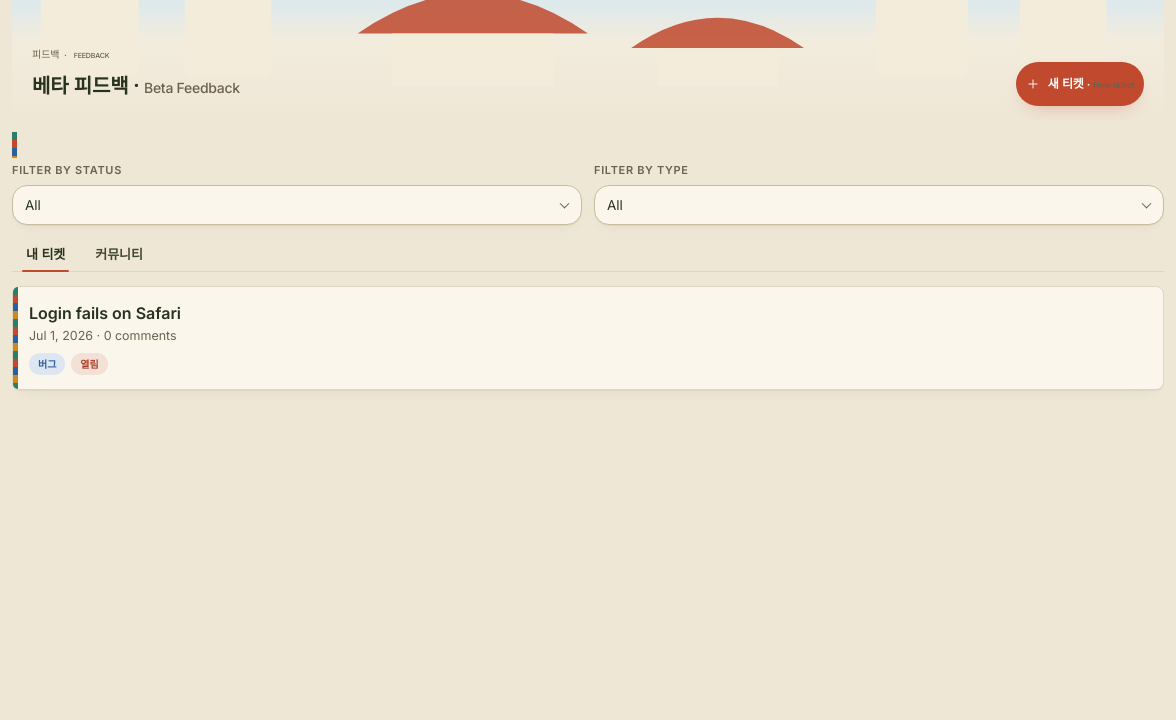
Scenario: Tickets — ticket detail + editing › edits title/body/status and saves via PATCH with the expected_version
This screenshot has width=1176, height=720.
Expected: the text "Login fails on Safari" is shown, [29,303,181,323]
Click the button "Login fails on Safari Jul 1, 2026 · 0 comments 버그 열림": (105, 313) [13,287,1163,390]
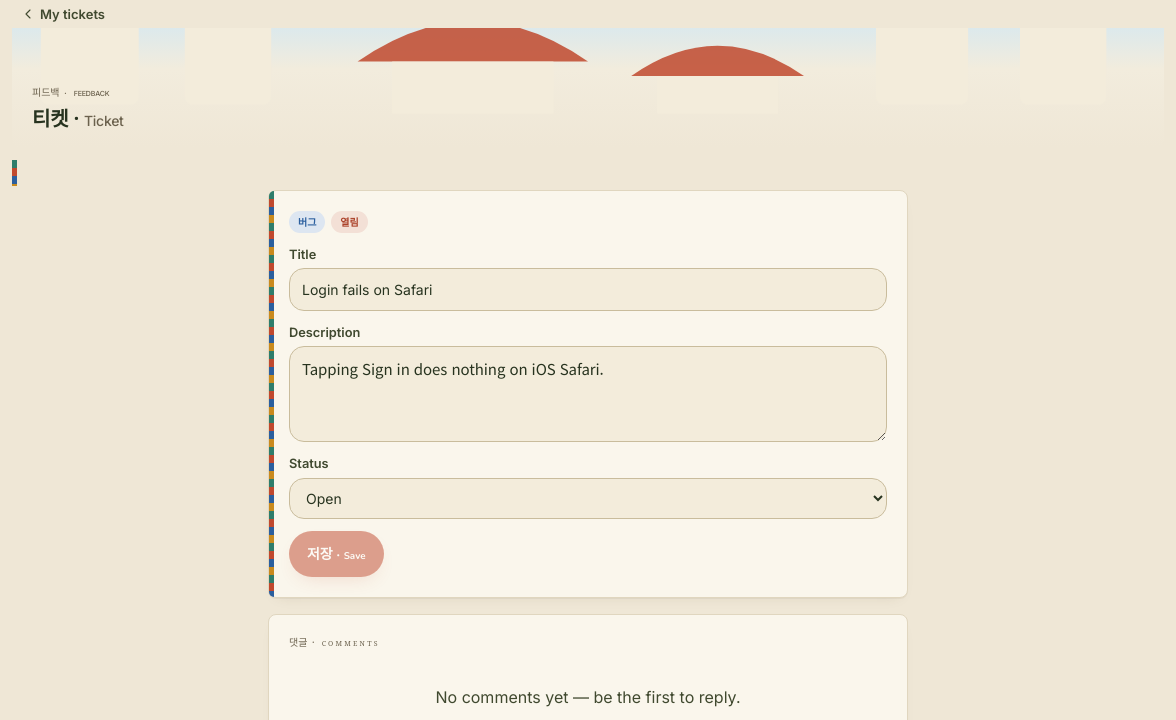
Replace the text in the field labelled "Title" with "Login fails on Safari 17": (588, 290) [289,268,887,311]
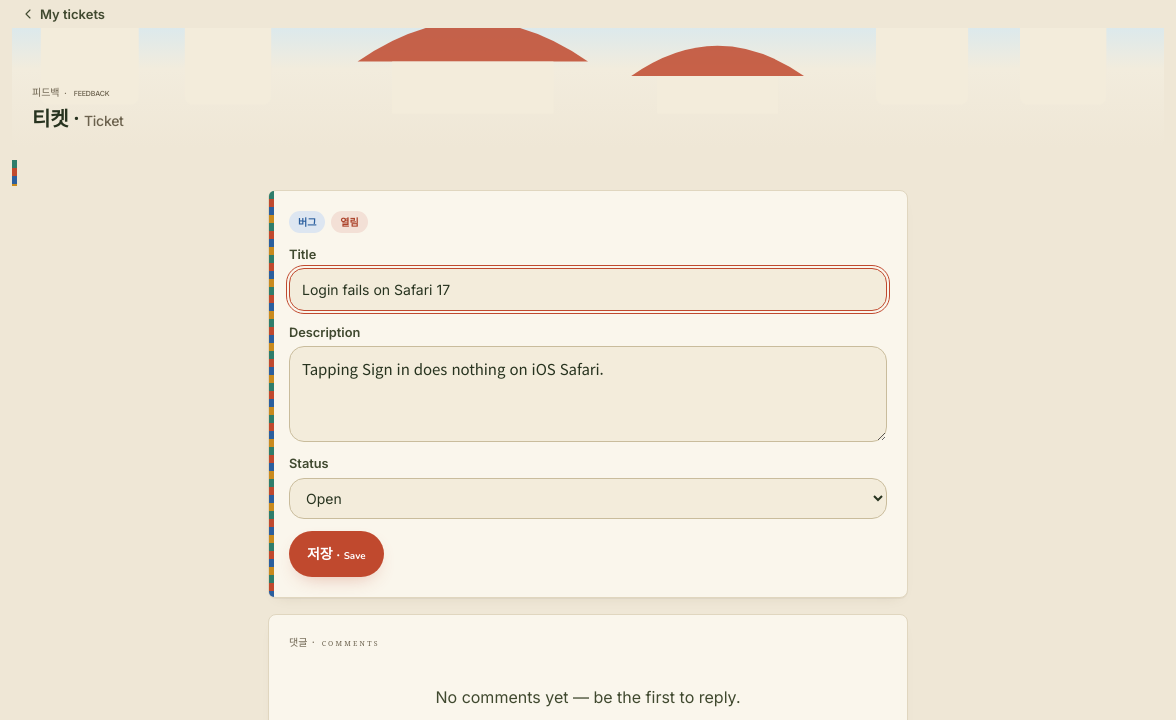
Select "In progress" in the dropdown labelled "Status": (588, 498) [289,478,887,519]
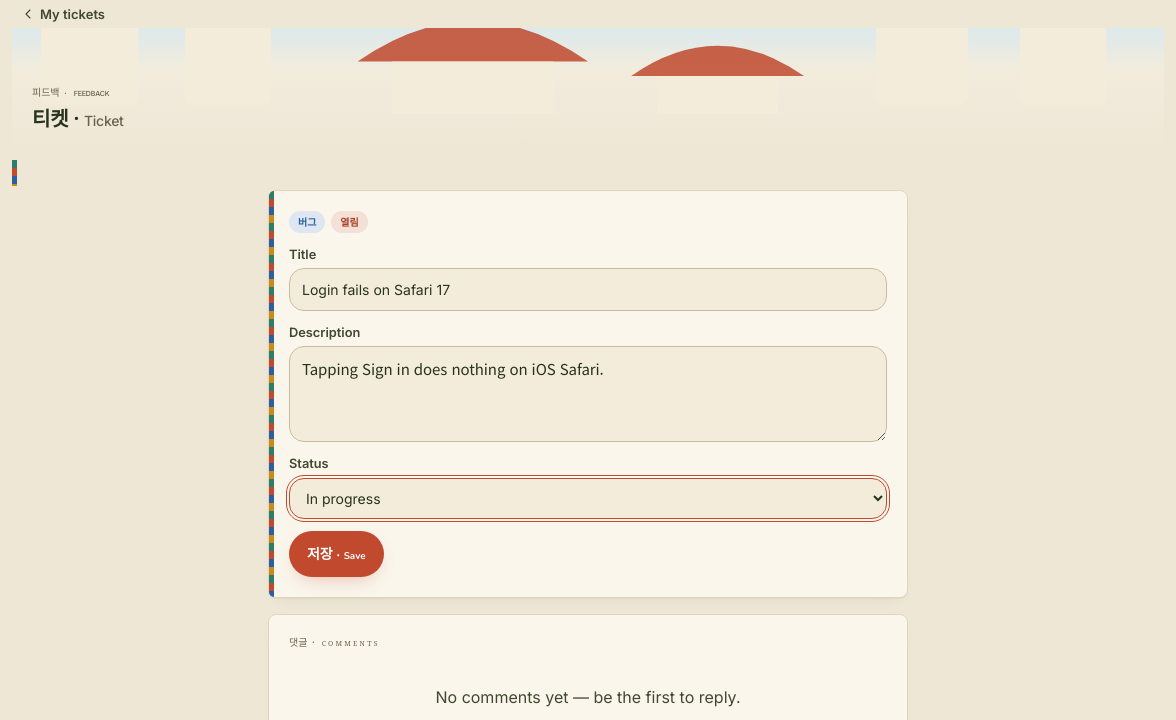
Result: the button "저장 · Save" is enabled
Click the button "저장 · Save": (336, 554) [289,531,384,577]
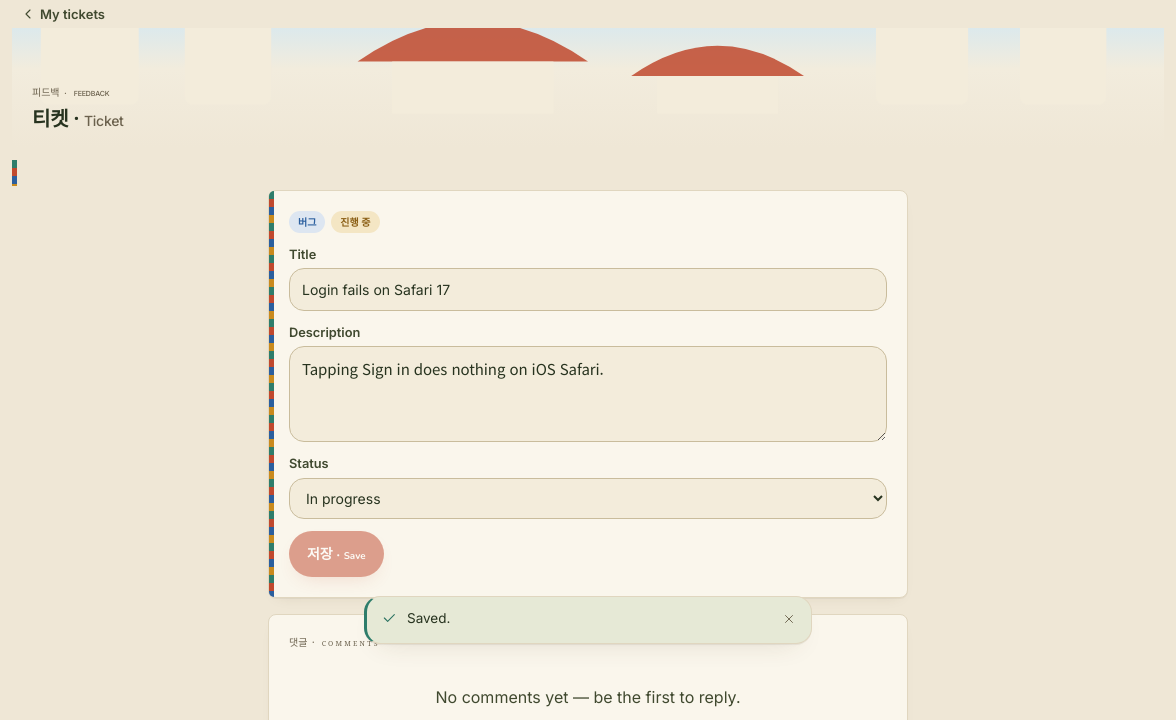
Result: the button "저장 · Save" is disabled at [289,531,384,577]
